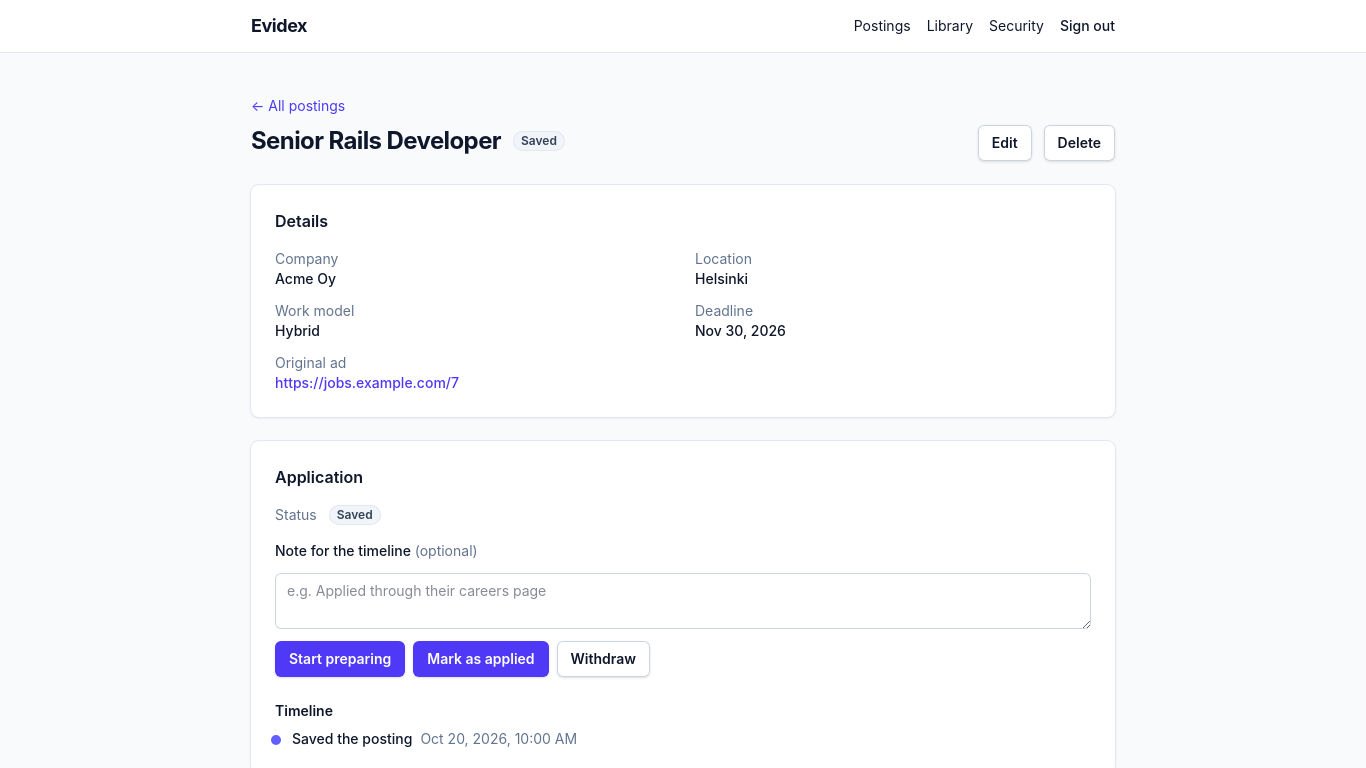
Scenario: Job postings › asks for confirmation before deleting
This screenshot has width=1366, height=768.
Click the button "Delete" at (1079, 143), box [1044,125,1115,161]
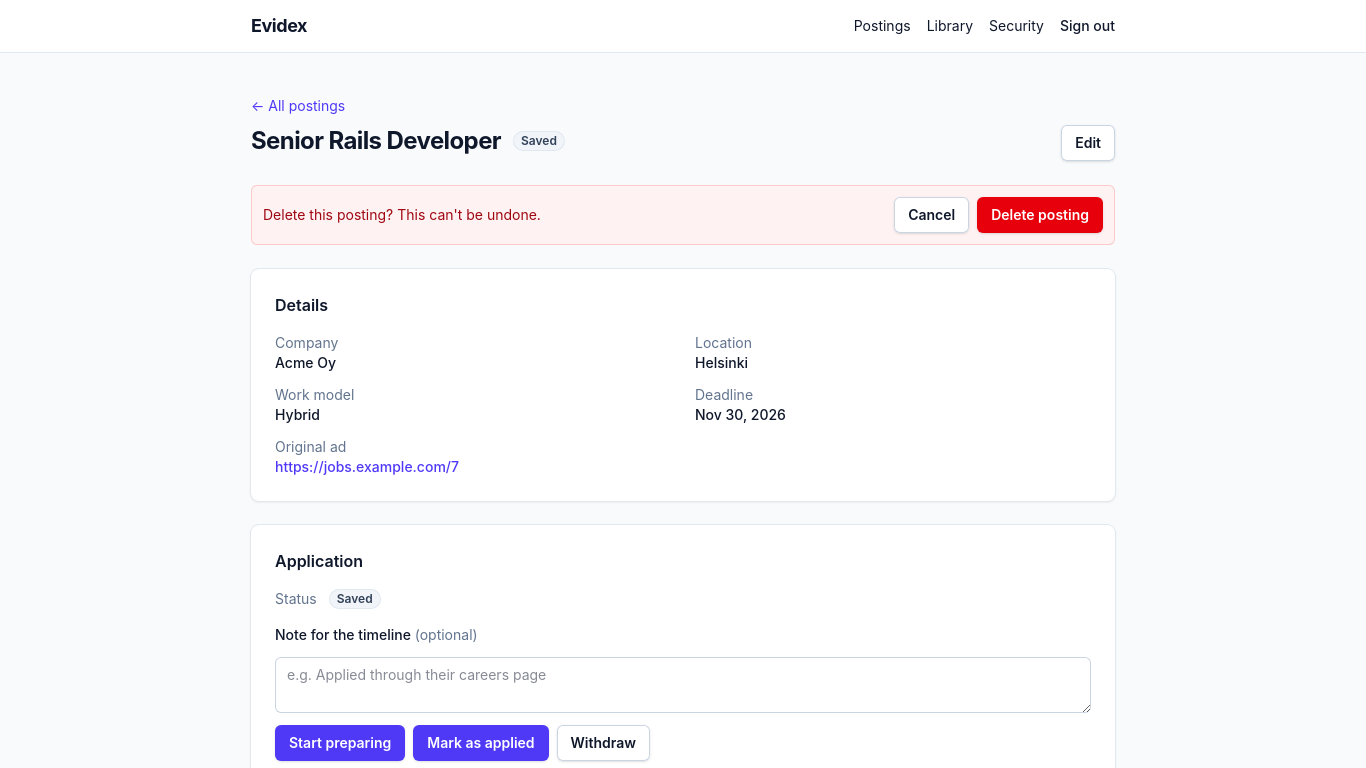
Click the button "Delete posting" at (1040, 215), box [977,197,1103,233]
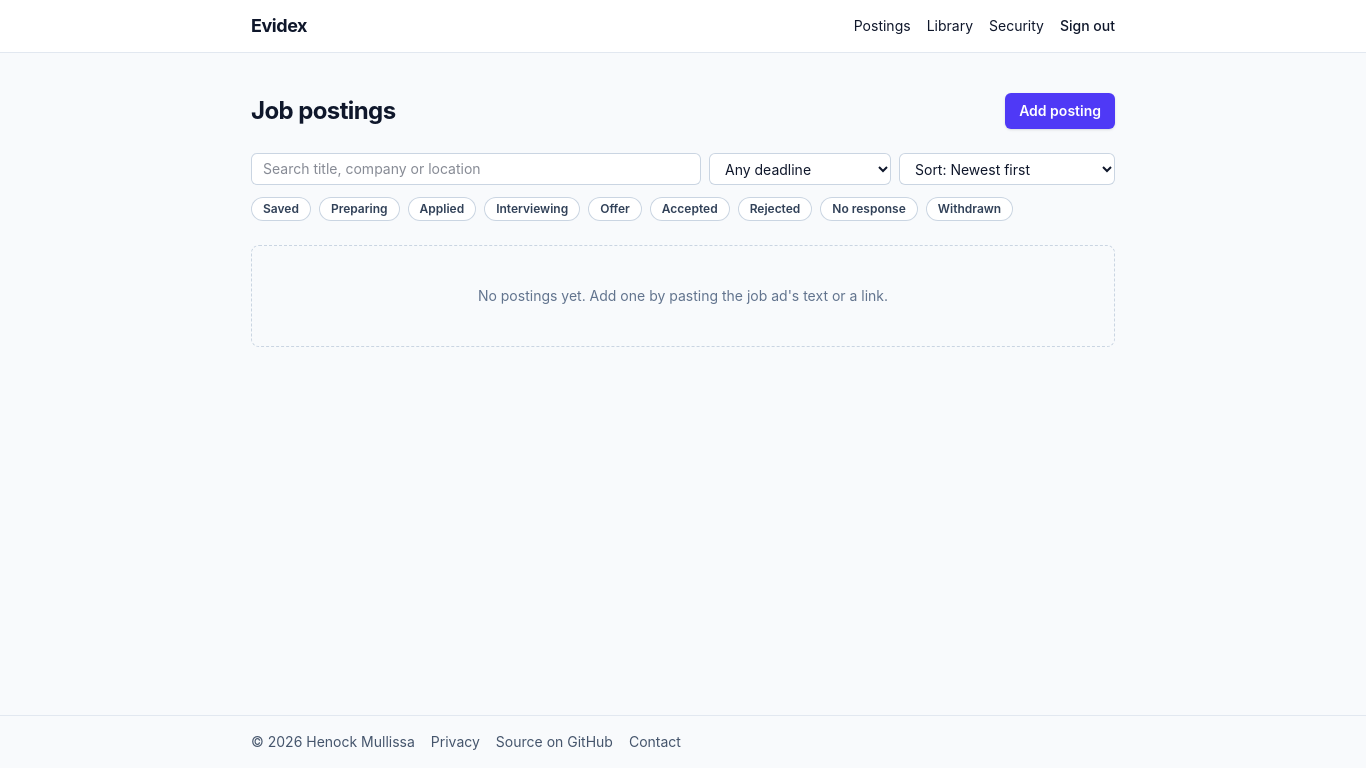
Expected: the text "No postings yet" is shown, [478,287,888,304]
